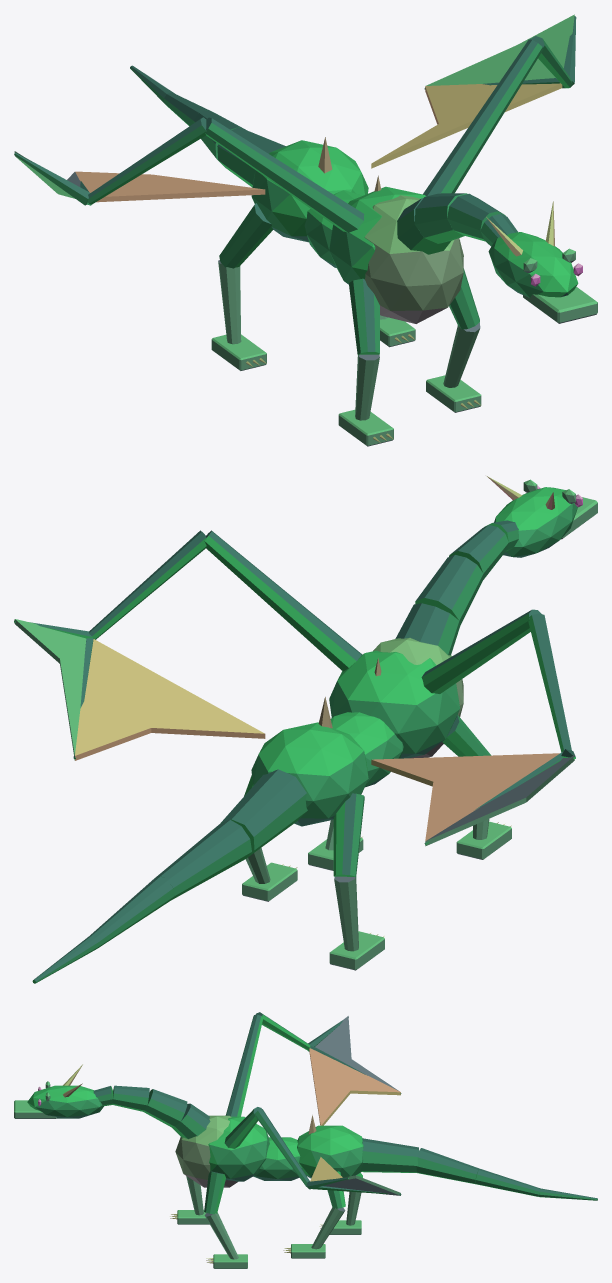
Rendered from creature_dragon_wanderer_stalk_a_v01.glb.
3 views of the same model, one above another, from view 1: azimuth 30°, elevation 25°; view 2: azimuth 150°, elevation 25°; view 3: azimuth 270°, elevation 25° (orthographic). The views are drawn at different scales.
Visible parts, largest first — view 1: GEO_creature_dragon_wanderer_stalk_a_v01; view 2: GEO_creature_dragon_wanderer_stalk_a_v01; view 3: GEO_creature_dragon_wanderer_stalk_a_v01.
Part boxes in pixels (x1,y1,x2,y2): GEO_creature_dragon_wanderer_stalk_a_v01: (14,14,597,446); GEO_creature_dragon_wanderer_stalk_a_v01: (14,476,597,983); GEO_creature_dragon_wanderer_stalk_a_v01: (14,1012,597,1268).
Size of the model in its own units: 10.49 by 5.68 by 16.02.
